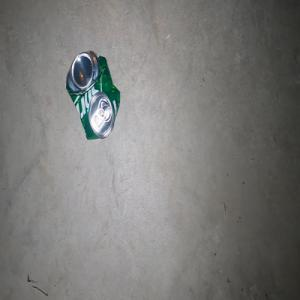SodaCan: (66, 49, 120, 139)
